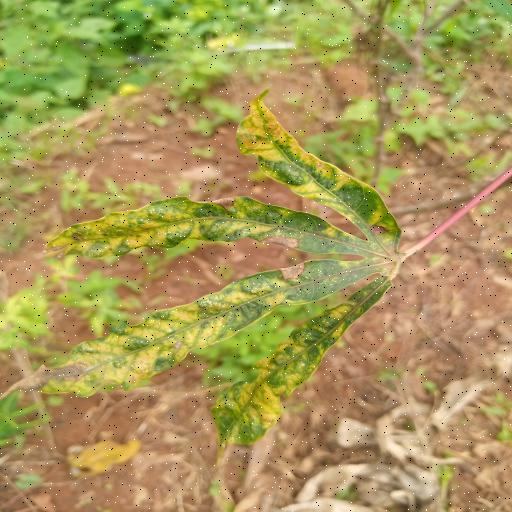Cassava_Mosaic: (30, 89, 400, 450)
